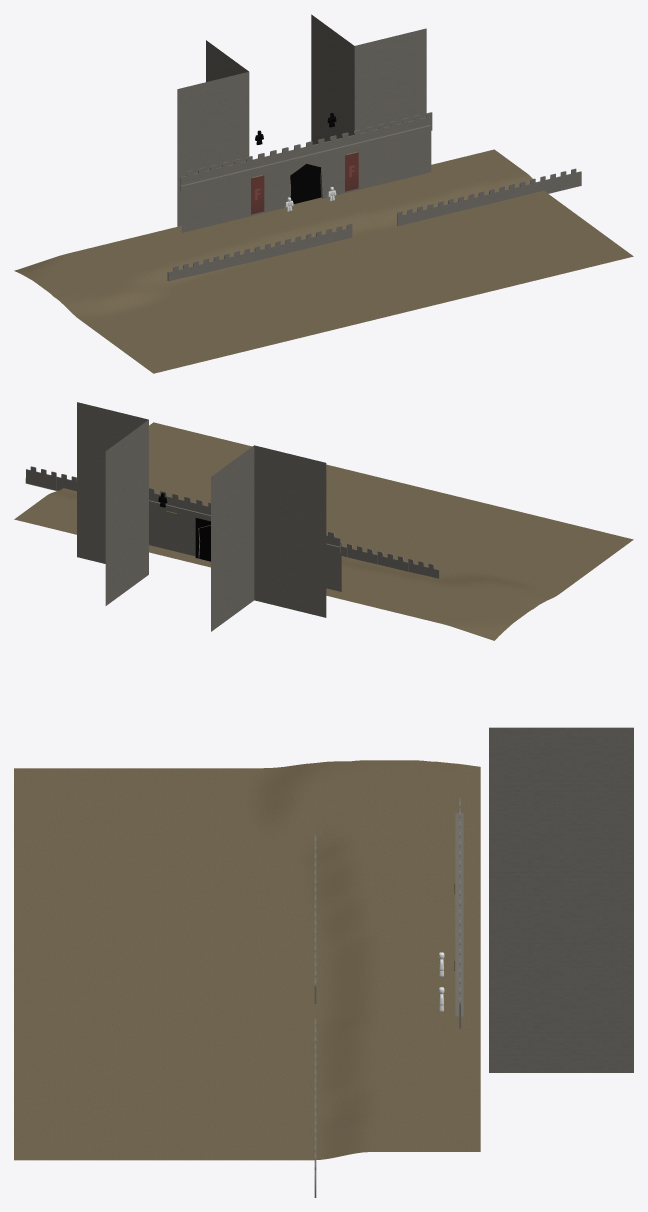
File: Arena.gltf
The picture shows the model from 3 angles, top to bottom: view 1: azimuth 30°, elevation 25°; view 2: azimuth 150°, elevation 25°; view 3: azimuth 270°, elevation 25°; orthographic projection. The views are drawn at different scales.
Parts seen in each view (by area): view 1: Plane, Cube.005, Cube.001, Cube.004, Cube.003, Cube.006, Cube, Plane.001, Banner_2.002, Banner_2.001; view 2: Plane, Cube.004, Cube.005, Cube.001, Cube.003, Cube, Cube.006, Plane.001; view 3: Plane, Cube.005, Cube.004, Cube.001.
Part boxes in pixels (<box>): Plane: <box>14,149,633,373</box>; Cube.005: <box>311,14,426,144</box>; Cube.001: <box>179,125,431,232</box>; Cube.004: <box>177,40,249,226</box>; Cube.003: <box>180,112,432,191</box>; Cube.006: <box>397,168,581,226</box>; Cube: <box>167,223,352,281</box>; Plane.001: <box>290,163,321,203</box>; Banner_2.002: <box>345,152,358,191</box>; Banner_2.001: <box>251,175,264,214</box>; Plane: <box>14,422,633,640</box>; Cube.004: <box>211,445,326,631</box>; Cube.005: <box>77,402,148,605</box>; Cube.001: <box>149,500,341,591</box>; Cube.003: <box>149,487,340,552</box>; Cube: <box>340,542,439,578</box>; Cube.006: <box>25,466,76,491</box>; Plane.001: <box>195,518,210,561</box>; Plane: <box>14,760,480,1160</box>; Cube.005: <box>489,813,633,1072</box>; Cube.004: <box>489,727,633,813</box>; Cube.001: <box>455,813,463,1016</box>.
Bounding box in the file's own units: 154 × 43.97 × 95.28.
14 materials, 11 textured.
